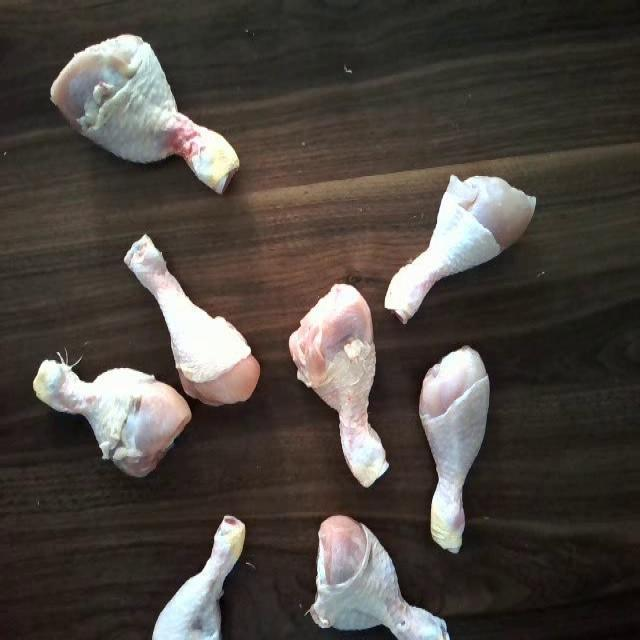leg: (49, 28, 242, 195), (124, 233, 264, 408), (383, 166, 538, 322), (28, 344, 190, 484), (285, 283, 388, 490), (306, 506, 452, 640), (420, 343, 490, 560), (146, 504, 247, 640)
